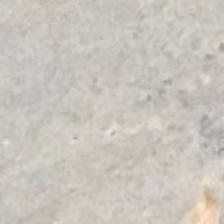Non_Crack: (18, 14, 224, 221)
